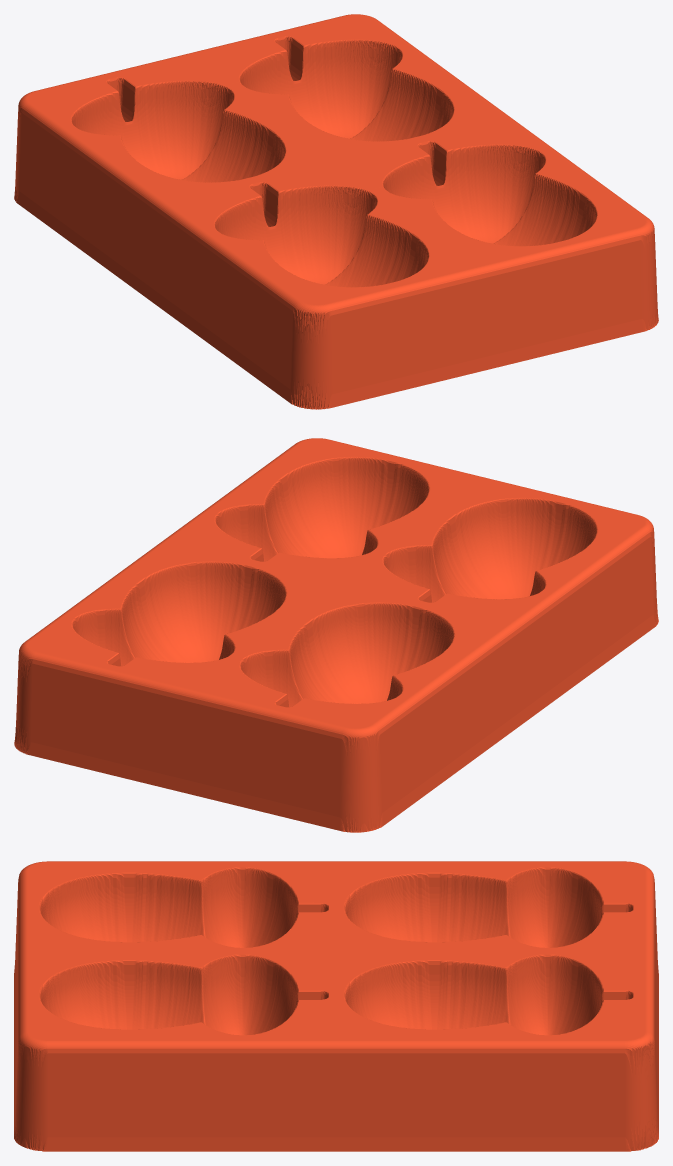
Rendered from mold.glb.
The picture shows the model from 3 angles, top to bottom: view 1: azimuth 30°, elevation 25°; view 2: azimuth 150°, elevation 25°; view 3: azimuth 270°, elevation 25°; orthographic projection. The views are drawn at different scales.
Visible parts, largest first — view 1: geometry_0; view 2: geometry_0; view 3: geometry_0.
Part boxes in pixels (<box>): geometry_0: <box>14,14,658,409</box>; geometry_0: <box>14,438,658,832</box>; geometry_0: <box>14,861,658,1151</box>.
Size of the model in its own units: 0.1198 by 0.031 by 0.1721.
